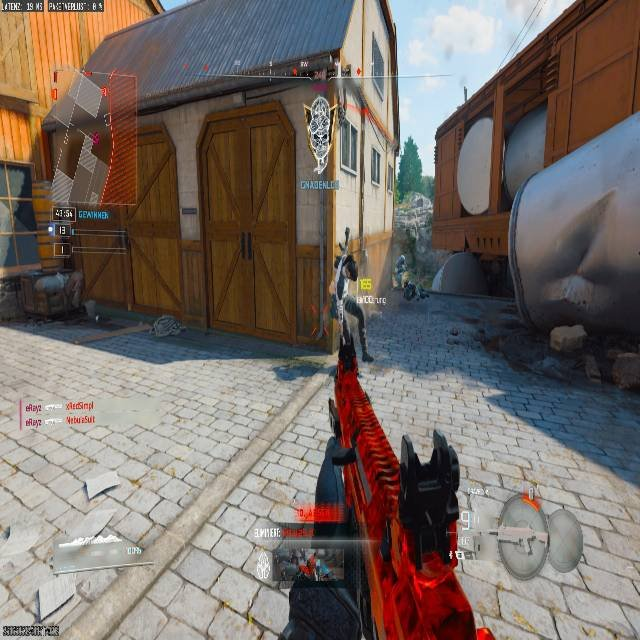head: (399, 254, 405, 261)
player: (331, 240, 372, 363), (330, 248, 360, 305), (394, 251, 421, 304), (394, 254, 407, 287)
